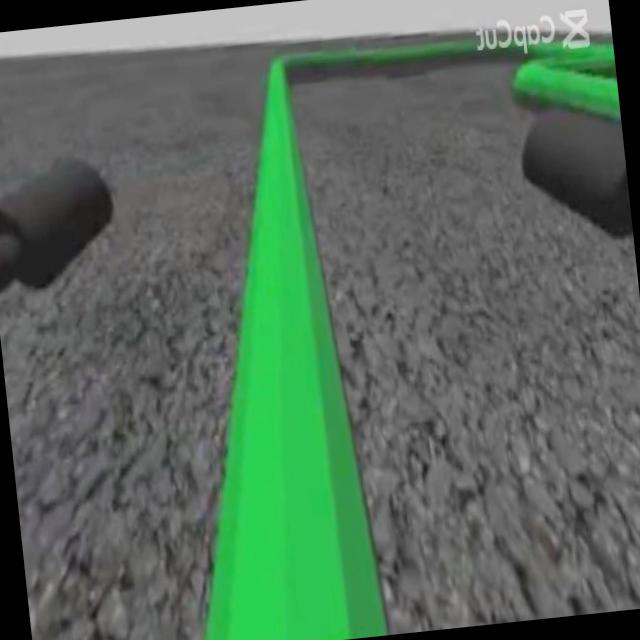gas: (143, 69, 389, 640)
